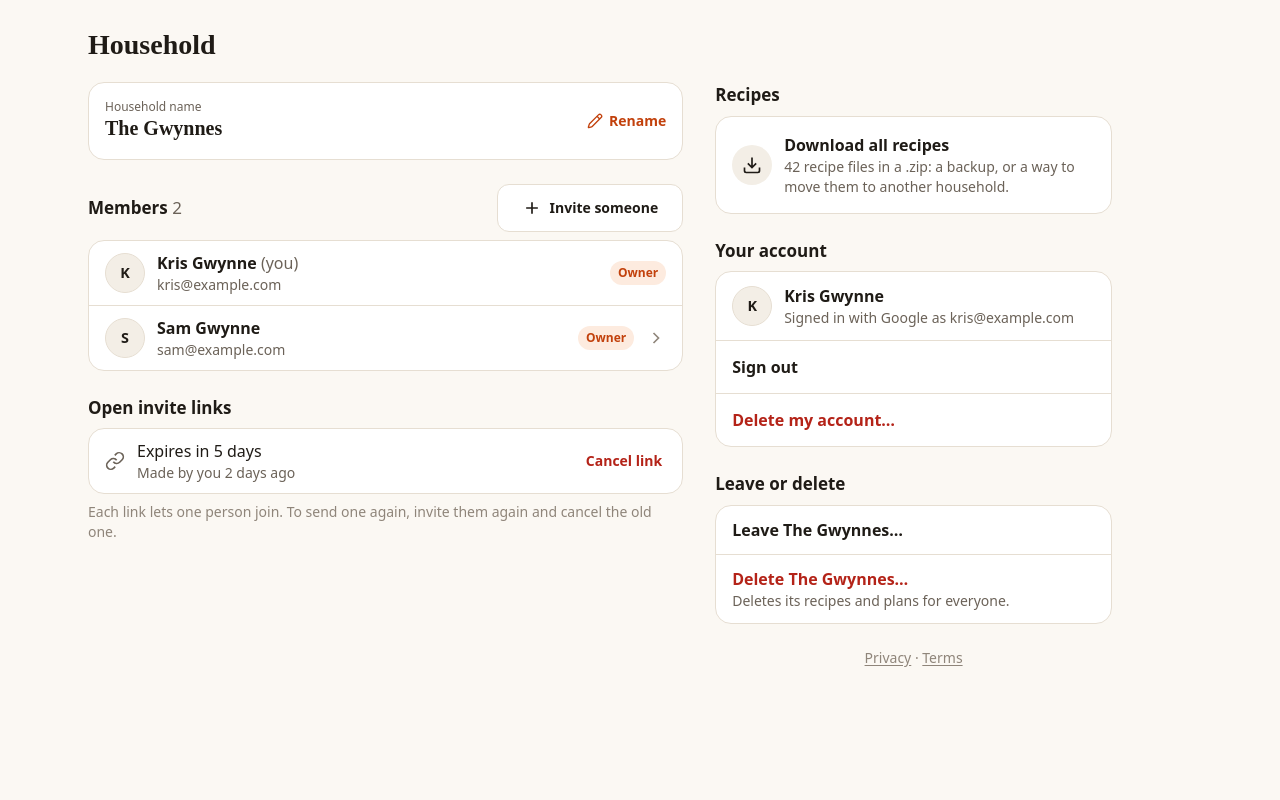
Test: Delete my account (design K, L) › lets an owner go while another owner stays
Click the button "Delete my account…".
click(814, 420)  # box [716,394,1111,446]
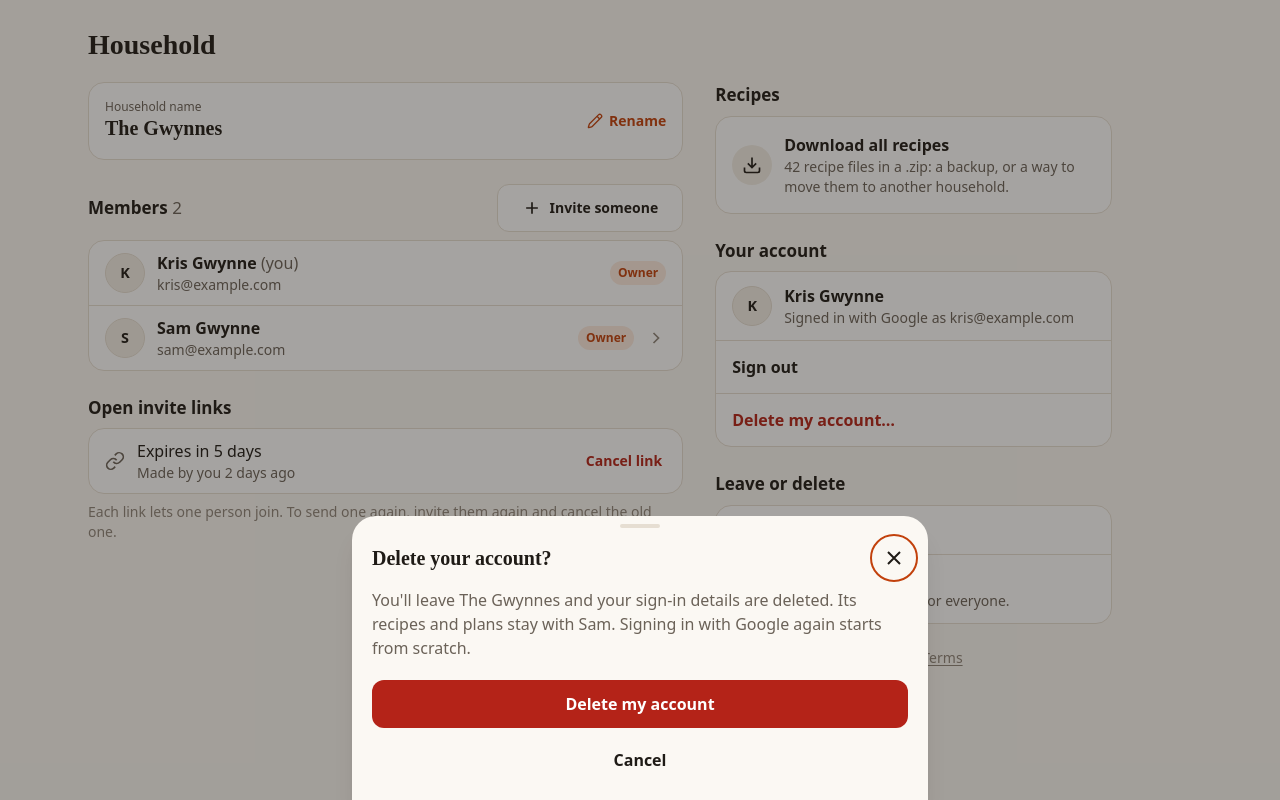
expect the dialog shows "stay with Sam.": met, box [352,516,928,799]
